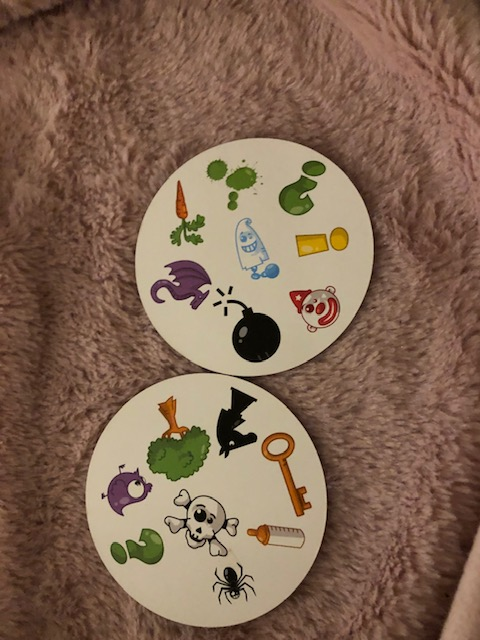araignee: (209, 558, 259, 609)
arbre: (145, 393, 210, 485)
biberon: (243, 518, 306, 554)
bombe: (208, 281, 281, 364)
carotte: (165, 180, 209, 247)
cheval: (214, 381, 271, 460)
cle: (256, 432, 312, 517)
clown: (285, 280, 343, 334)
dragon: (150, 256, 215, 310)
fantome: (228, 217, 281, 283)
oiseau: (99, 460, 154, 521)
point_exclamation: (292, 226, 347, 259)
point_interrogation: (275, 152, 330, 219), (108, 525, 168, 570)
tache: (202, 152, 262, 214)
tete_mort: (161, 486, 246, 559)
